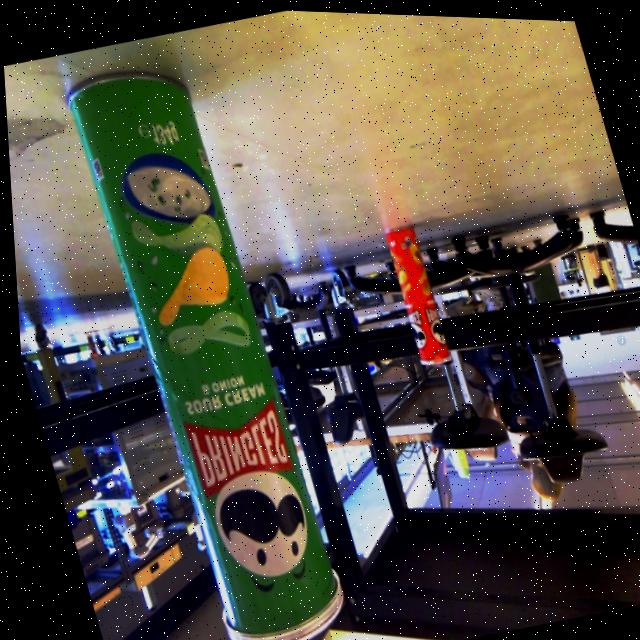greenpringles: (58, 38, 354, 640)
redpringles: (376, 213, 453, 371)
